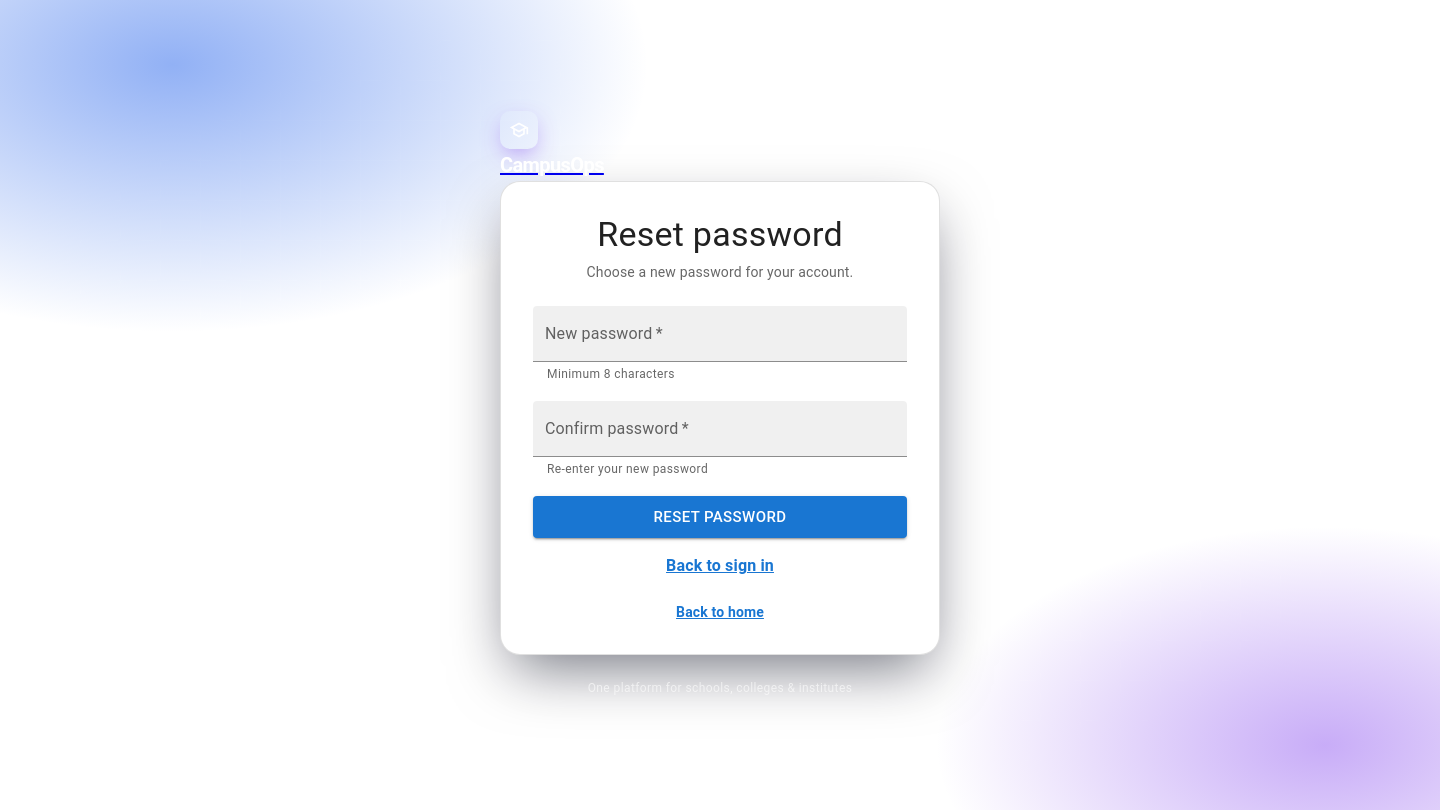
Test: ResetPasswordPage › validates password confirmation
The width and height of the screenshot is (1440, 810).
Step 1. Type "Password123!" into the password field labelled "New password *" → (720,334), box [533,306,907,362]
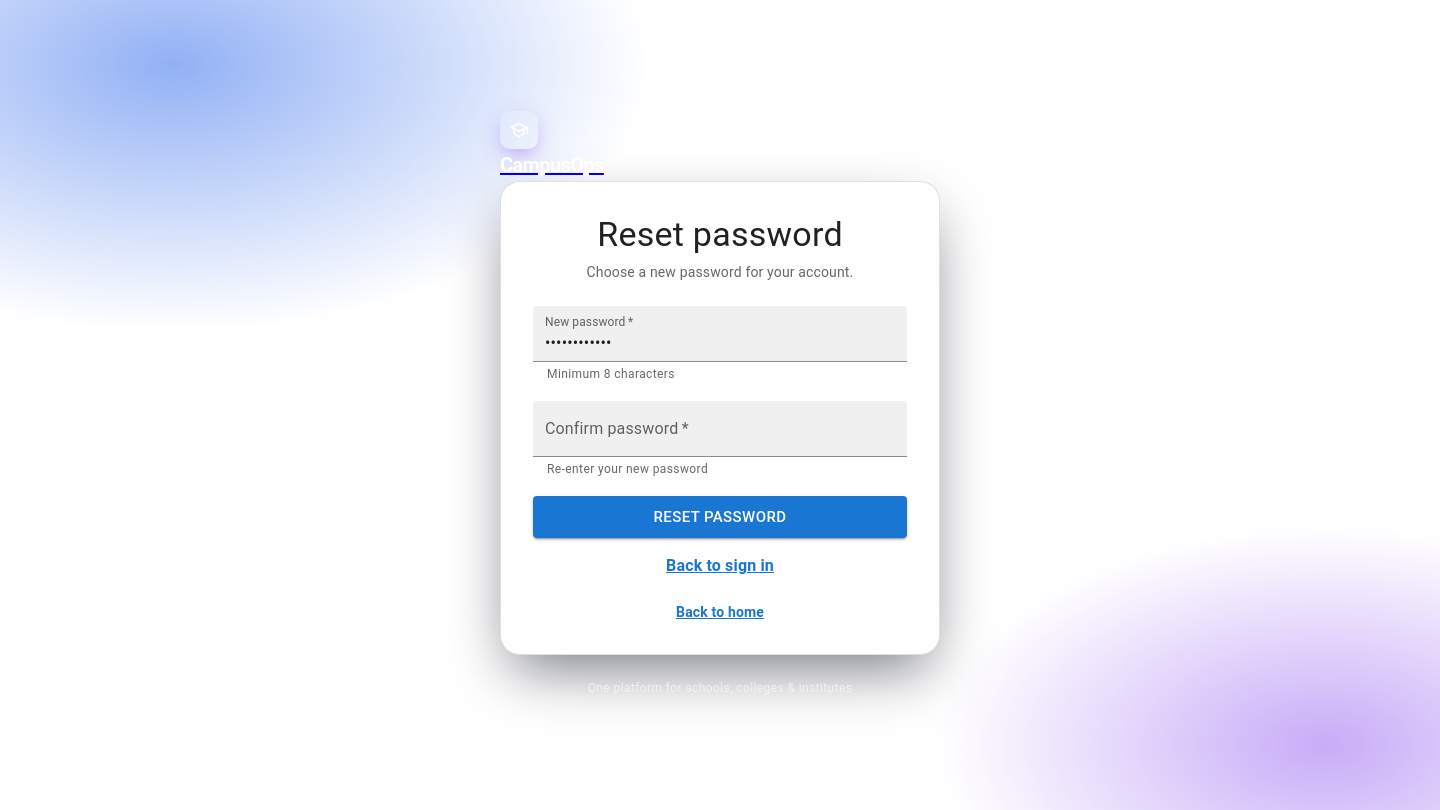
Step 2. Type "Different123!" into the password field labelled "Confirm password *" → (720,429), box [533,401,907,457]
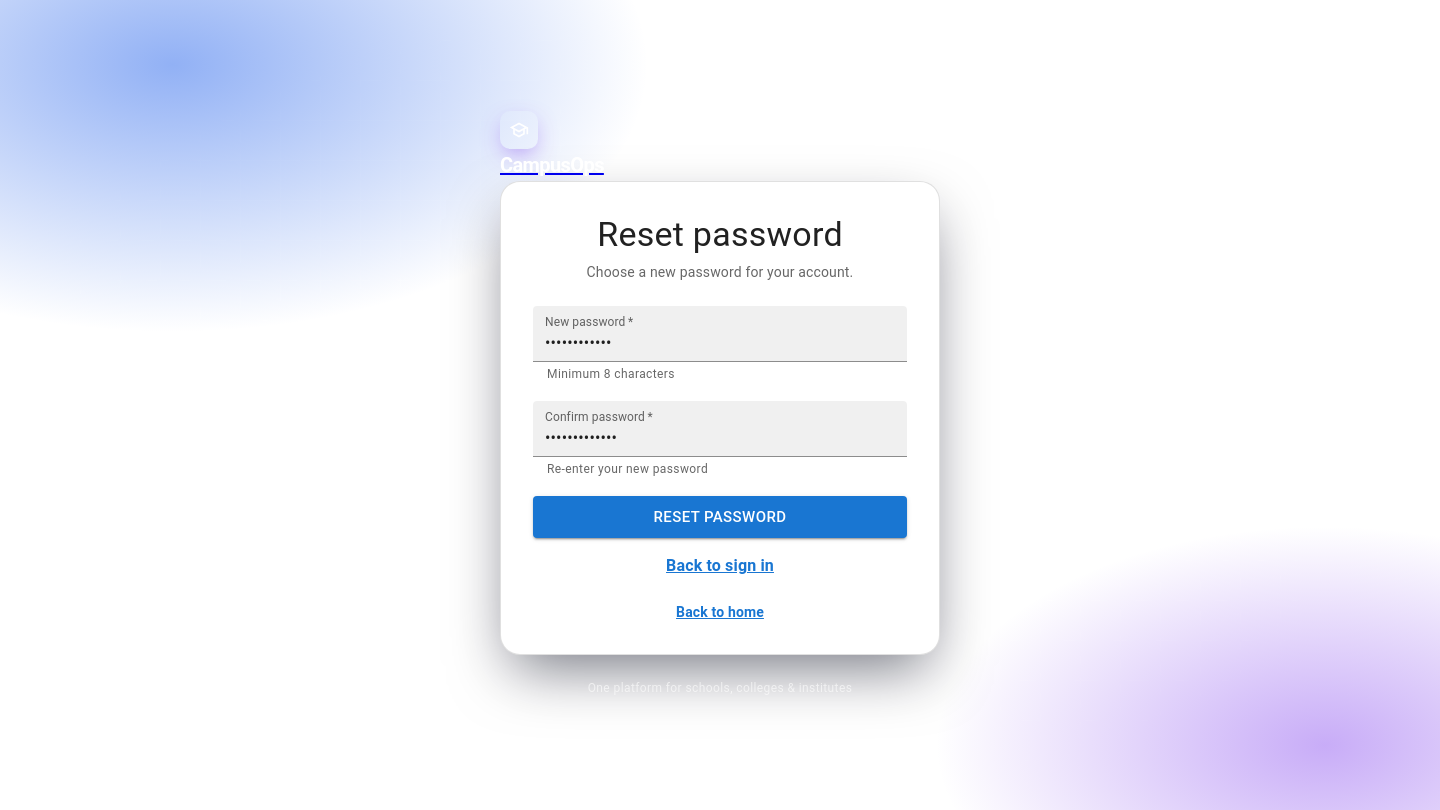
Step 3. Click the button "Reset password" → (720,517), box [533,496,907,538]
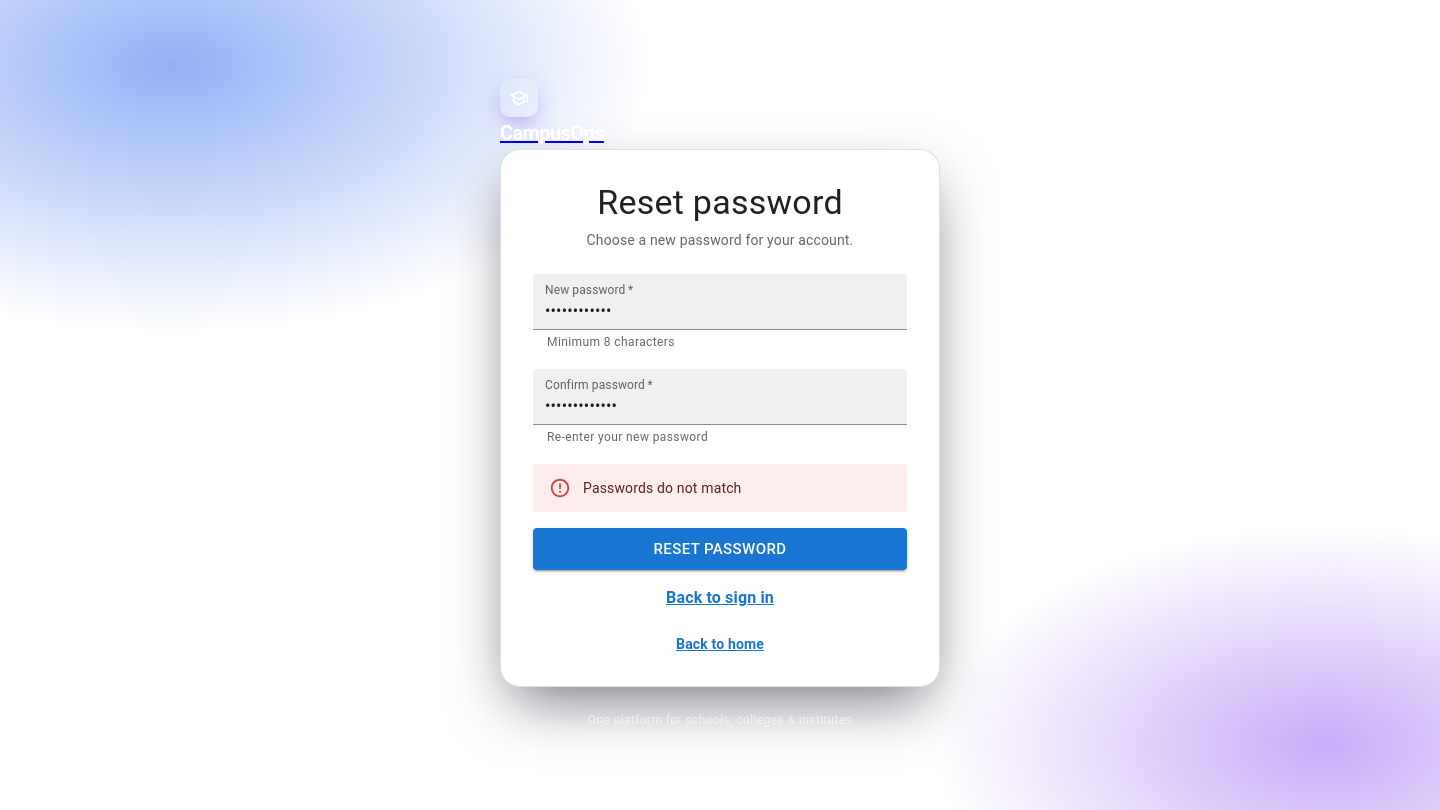
Expected: the text "Passwords do not match" is shown, [583,480,742,496]
